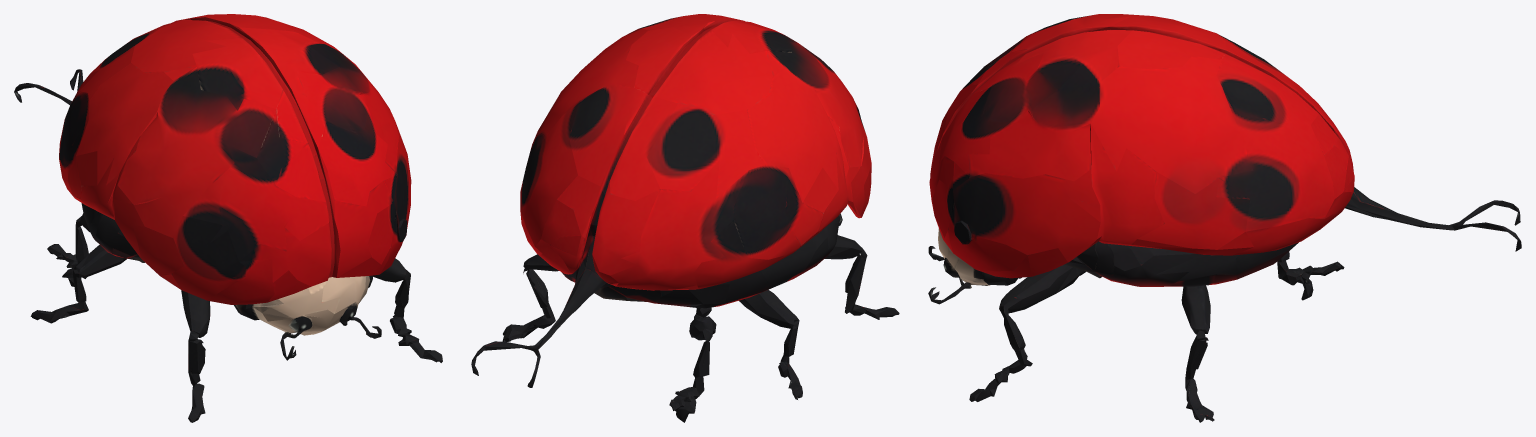
Rendered from ladybug.glb.
The picture shows the model from 3 angles, left to right: view 1: azimuth 30°, elevation 25°; view 2: azimuth 150°, elevation 25°; view 3: azimuth 270°, elevation 25°; orthographic projection.
Bounding box in the file's own units: 1.18 × 1.13 × 1.9.
Materials: 1 (1 with a texture image).
